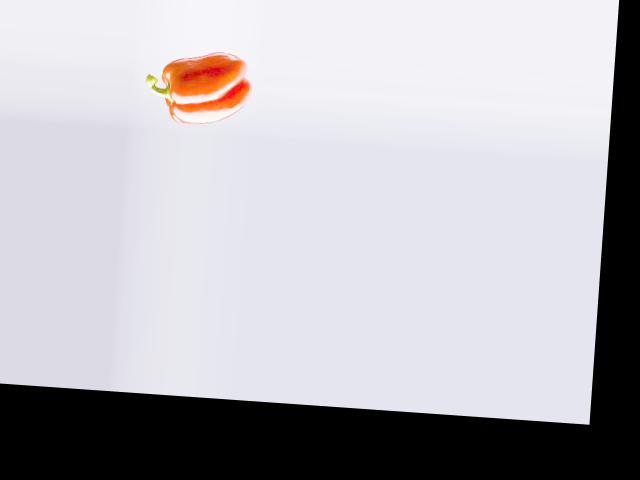bell_pepper: (142, 45, 250, 131)
